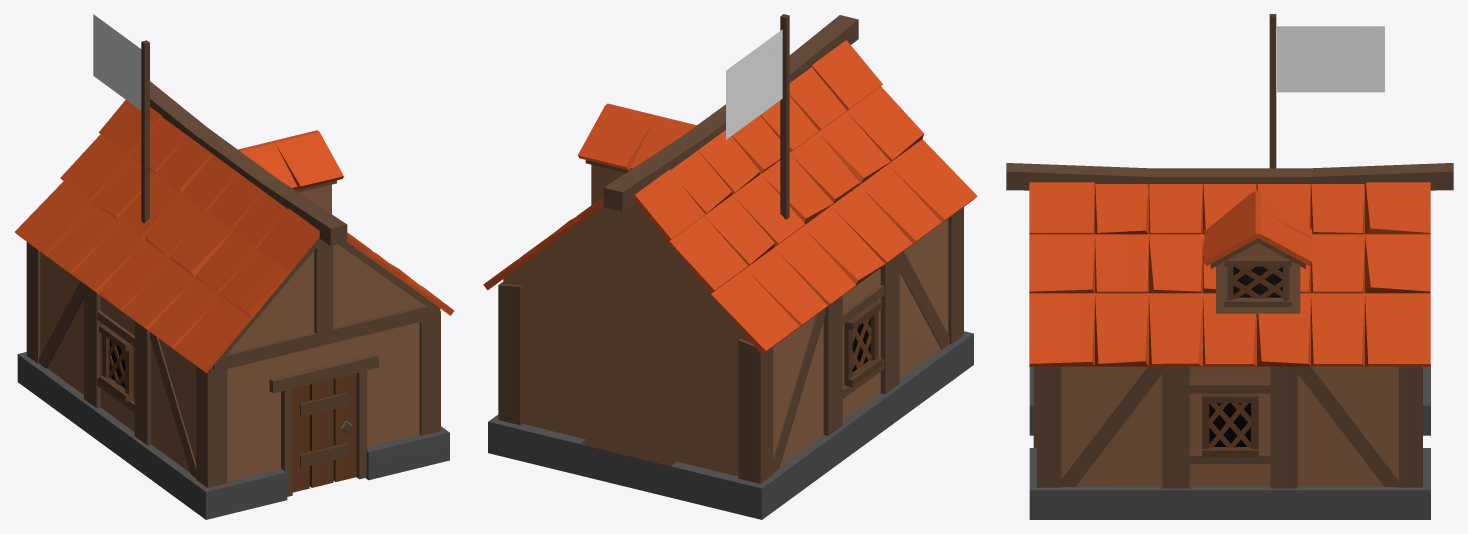
File: Town Hall Level 3.glb
3 renders of one model, left to right at view 1: azimuth 30°, elevation 25°; view 2: azimuth 150°, elevation 25°; view 3: azimuth 270°, elevation 25°, orthographic. The views are drawn at different scales.
Visible parts, largest first — view 1: Town Hall Level 3 Base, Door.003, Flag.003; view 2: Town Hall Level 3 Base, Flag.003; view 3: Town Hall Level 3 Base, Flag.003.
Part boxes in pixels (x1=…): Town Hall Level 3 Base: x1=15, y1=40, x2=454, y2=519; Door.003: x1=292, y1=373, x2=356, y2=492; Flag.003: x1=93, y1=14, x2=141, y2=110; Town Hall Level 3 Base: x1=483, y1=14, x2=977, y2=519; Flag.003: x1=726, y1=29, x2=782, y2=139; Town Hall Level 3 Base: x1=1006, y1=14, x2=1453, y2=519; Flag.003: x1=1277, y1=26, x2=1384, y2=92.
Size of the model in its own units: 4.28 by 6.2 by 6.19.
3 materials, 3 textured.
